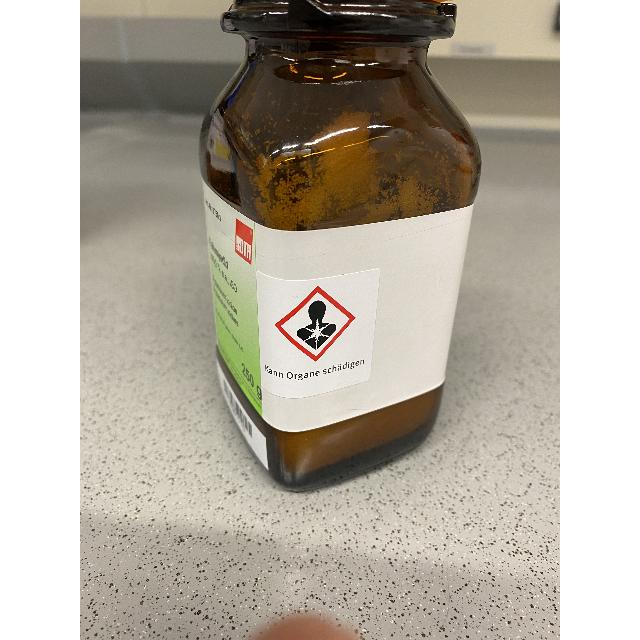serious health hazard: (275, 286, 355, 362)
